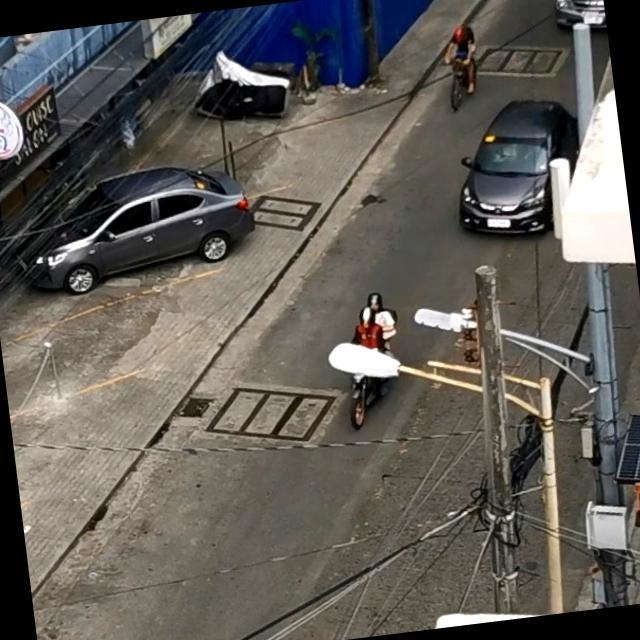Car: (9, 158, 249, 297), (444, 90, 585, 239), (553, 0, 606, 31)
